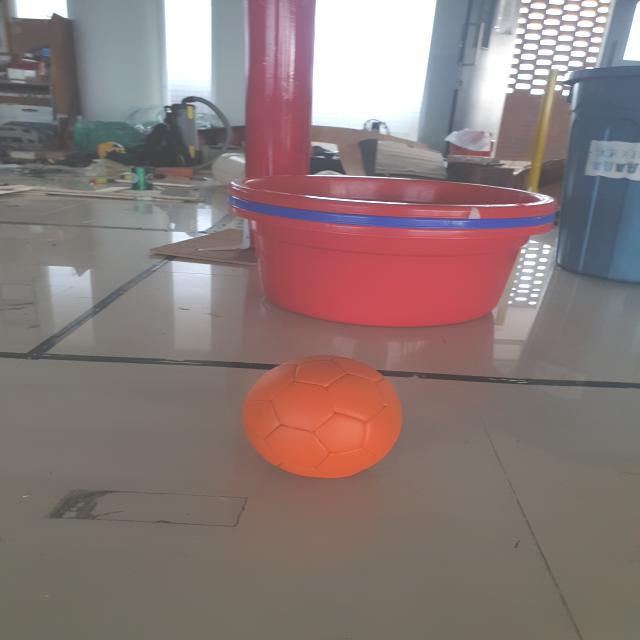bola: (232, 347, 409, 483)
